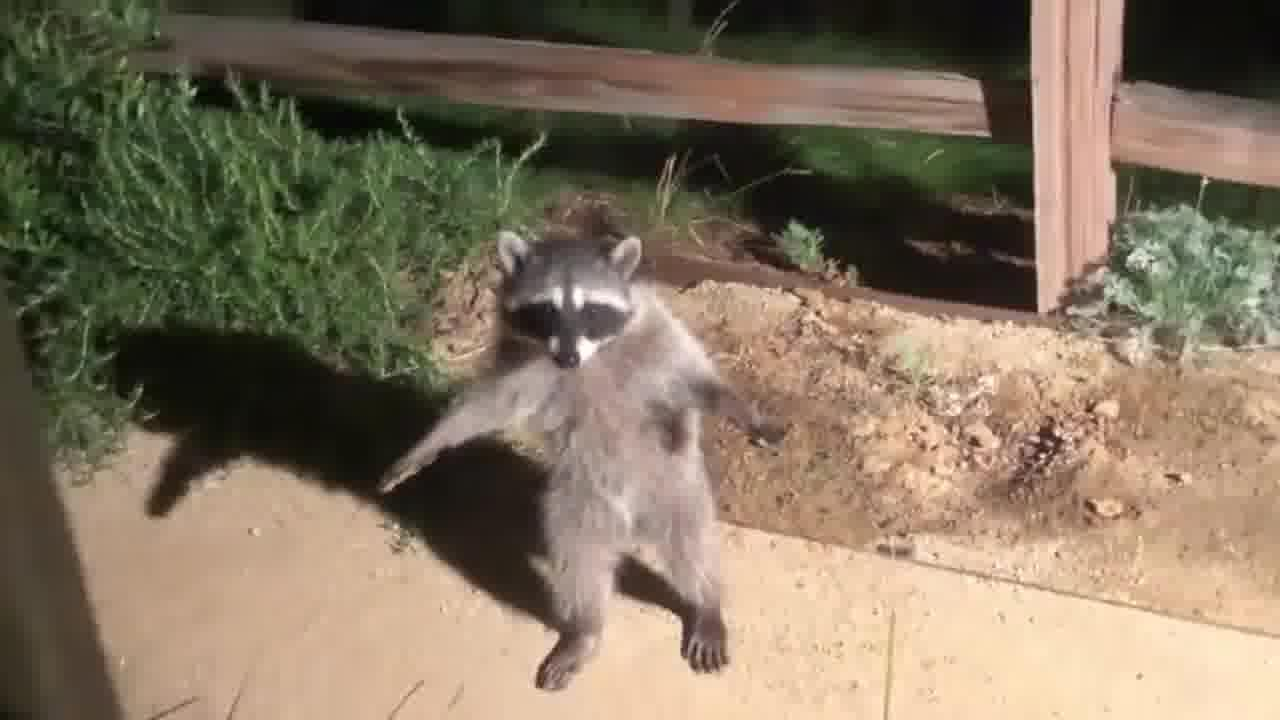raccoon: (379, 225, 791, 695)
